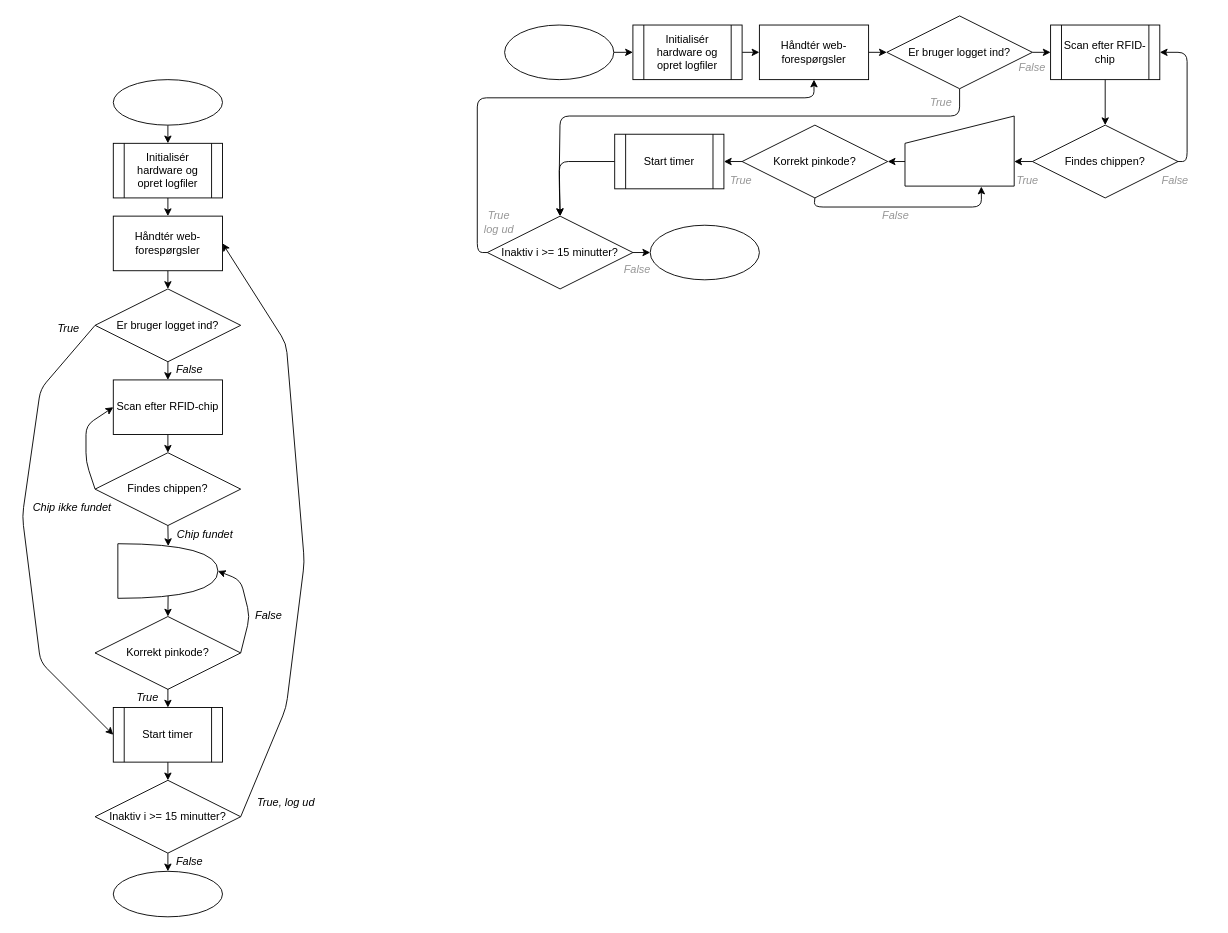
Image size: 1228x933. Some labels were removed from this diagram. Here are the shapes that lost their labels. From the top down, the centre of each, then its label:
At pixel 559 52: "Tænd strømforsyning".
At pixel 167 102: "START".
At pixel 959 150: "Afvent pinkode fra operatøren".
At pixel 704 252: "Klar til svejsning".
At pixel 167 570: "Afvent pinkode".
At pixel 167 893: "Påbegynd svejsning".
